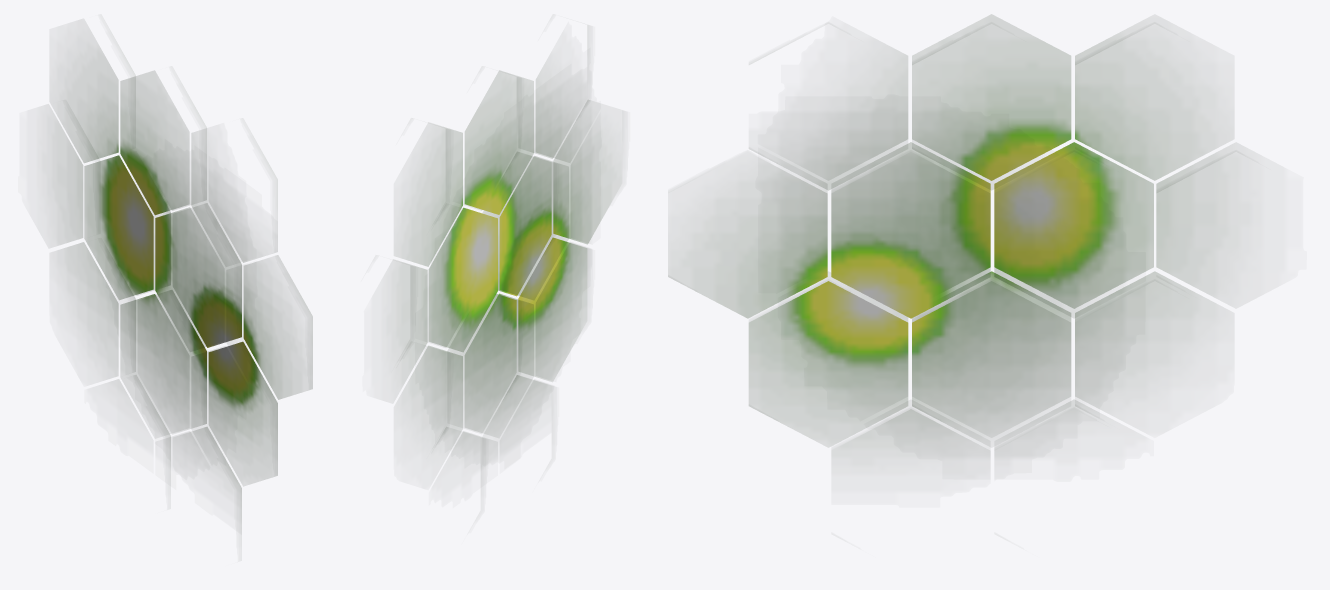
File: 0289_dunpai.glb
3 views of the same model, side by side, from view 1: azimuth 30°, elevation 25°; view 2: azimuth 150°, elevation 25°; view 3: azimuth 270°, elevation 25° (orthographic). The views are drawn at different scales.
Size of the model in its own units: 0.0783 by 2.07 by 2.2.
Materials: 1 (1 with a texture image).
